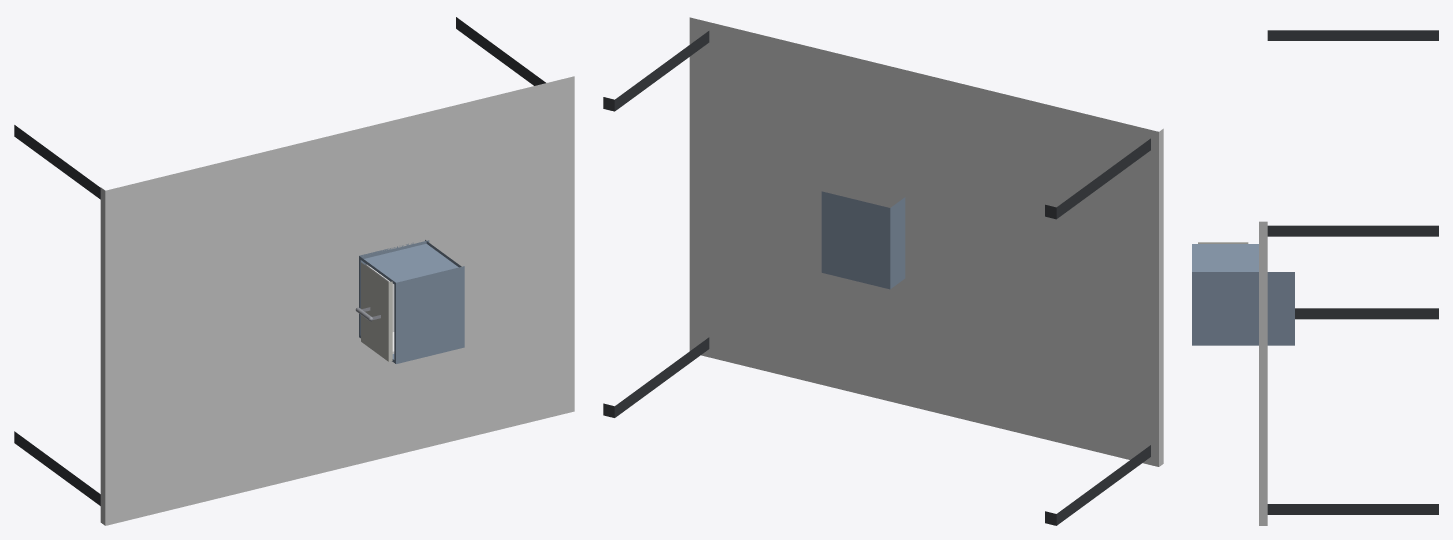
Rendered from t2_fa4acafb9b.glb.
3 renders of one model, left to right at view 1: azimuth 30°, elevation 25°; view 2: azimuth 150°, elevation 25°; view 3: azimuth 270°, elevation 25°, orthographic. The views are drawn at different scales.
Visible parts, largest first — view 1: s0, s1, s2; view 2: s0, s1; view 3: s0, s1.
Part boxes in pixels (<box>): s0: <box>14,17,574,525</box>; s1: <box>359,240,464,363</box>; s2: <box>355,262,394,361</box>; s0: <box>603,17,1163,525</box>; s1: <box>821,191,905,289</box>; s0: <box>1259,30,1438,525</box>; s1: <box>1192,244,1294,345</box>.
Size of the model in its own units: 2.05 by 1.4 by 1.03.
